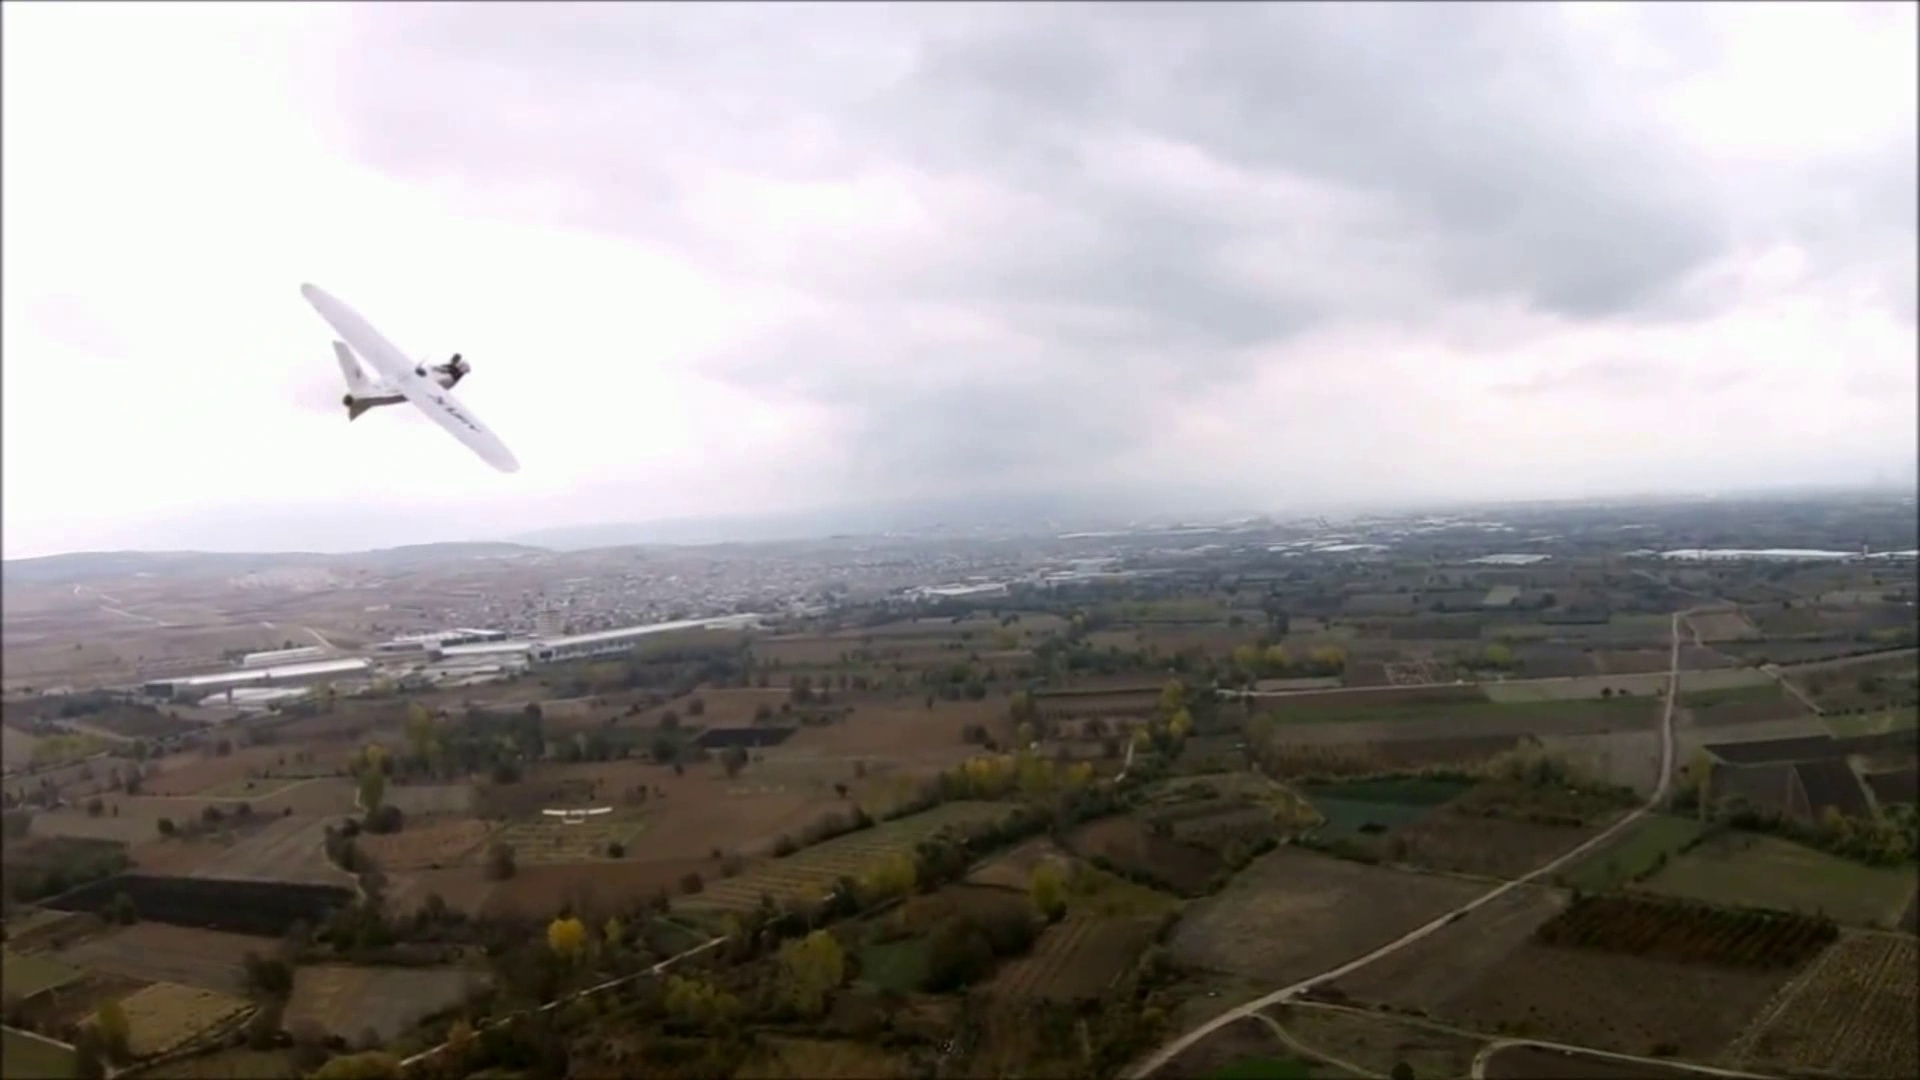airplane: (286, 281, 520, 473)
